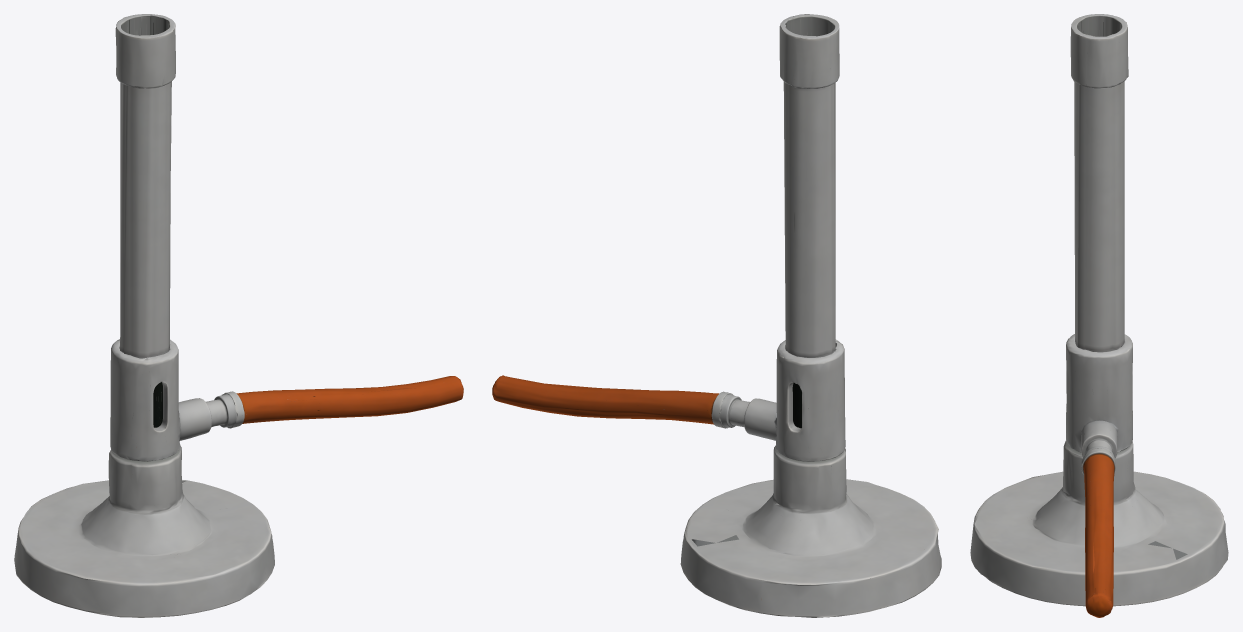
Rendered from BunsenBurner.glb.
3 renders of one model, left to right at view 1: azimuth 30°, elevation 25°; view 2: azimuth 150°, elevation 25°; view 3: azimuth 270°, elevation 25°, orthographic.
Parts seen in each view (by area): view 1: geometry_0; view 2: geometry_0; view 3: geometry_0.
Part boxes in pixels (x1,y1,x2,y2): geometry_0: (14,14,463,617); geometry_0: (492,14,941,617); geometry_0: (970,14,1228,617).
Size of the model in its own units: 0.7998 by 0.9512 by 0.4214.
1 material, 1 textured.
